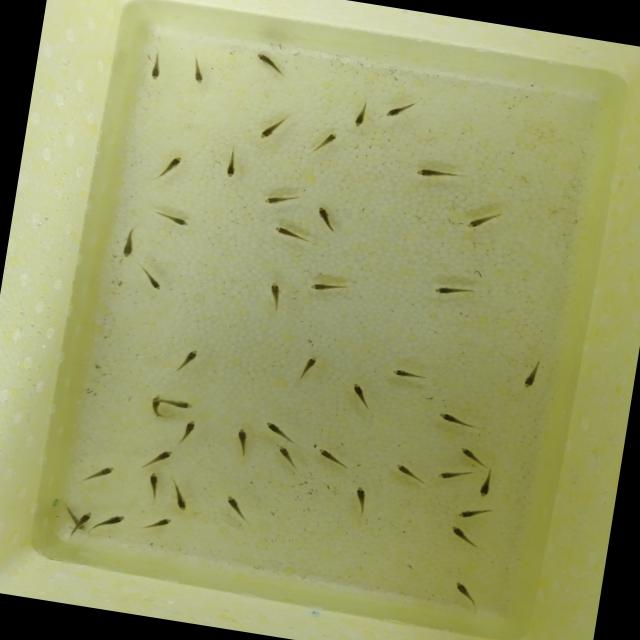fingerling: (511, 356, 552, 396), (378, 93, 424, 126), (304, 273, 358, 301), (447, 579, 490, 614), (247, 50, 294, 82), (257, 278, 291, 319), (152, 148, 187, 187), (436, 410, 488, 436), (132, 262, 170, 297), (166, 343, 206, 376), (290, 350, 326, 386), (424, 278, 477, 302), (136, 444, 178, 474), (380, 361, 432, 385), (344, 380, 379, 414), (460, 208, 502, 236), (442, 522, 484, 550), (309, 203, 344, 236), (313, 445, 355, 472), (115, 225, 144, 264), (412, 163, 460, 186), (148, 208, 198, 230), (272, 443, 306, 475), (218, 491, 252, 523), (260, 418, 301, 444), (266, 222, 312, 245), (82, 460, 121, 487), (185, 52, 212, 90), (138, 469, 168, 503), (260, 187, 302, 211), (256, 113, 287, 145), (346, 483, 376, 516), (228, 426, 257, 460), (391, 461, 428, 486), (452, 502, 492, 525), (145, 48, 169, 86), (349, 98, 375, 133), (456, 445, 492, 470), (168, 482, 194, 516), (220, 149, 245, 183), (471, 472, 498, 502), (432, 464, 468, 485), (176, 418, 202, 447), (142, 512, 176, 534), (100, 510, 132, 532), (314, 128, 340, 154), (145, 392, 166, 421), (165, 395, 196, 411), (79, 507, 97, 527), (62, 506, 80, 526)
